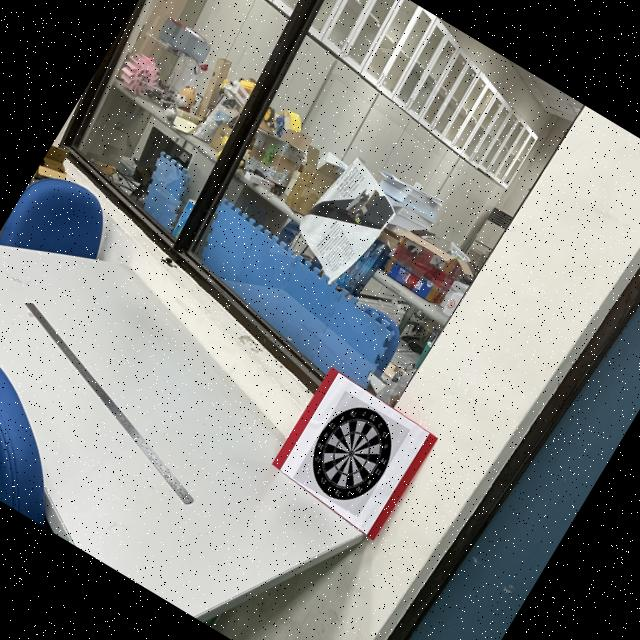archery-targets: (292, 391, 410, 518)
